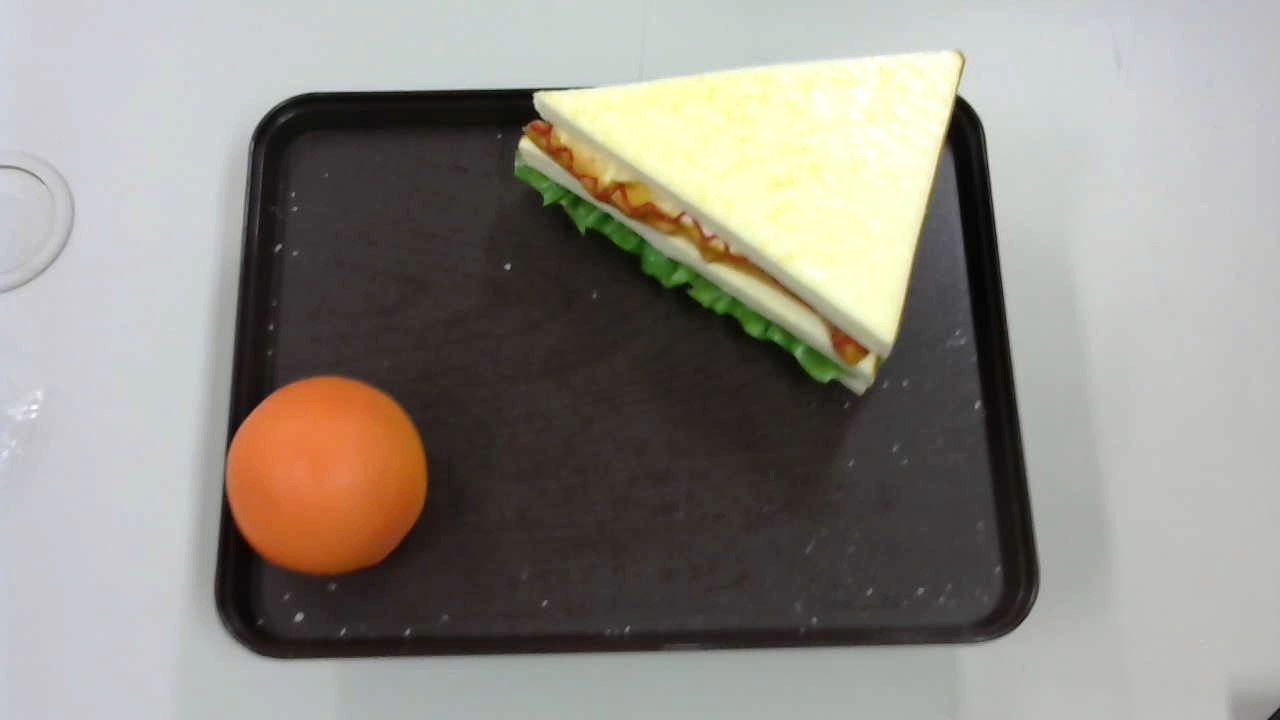bun: (225, 375, 427, 576)
sandwich: (514, 50, 964, 395)
